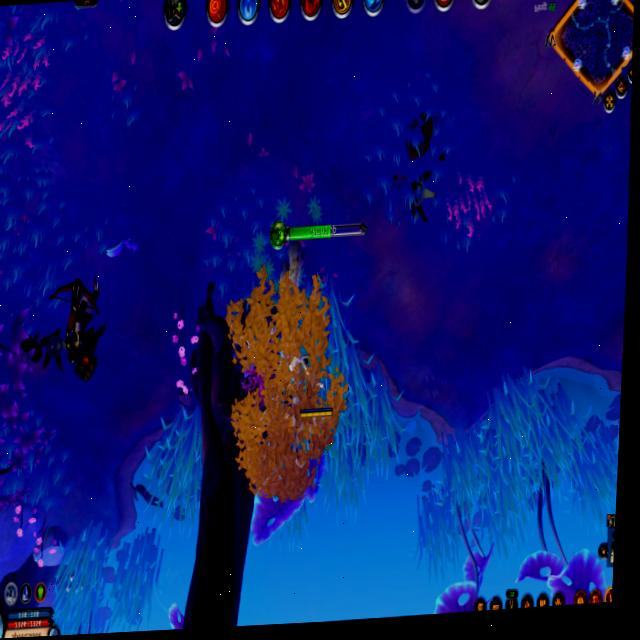ore: (39, 247, 121, 405)
red: (295, 341, 337, 425)
wisp caged: (221, 238, 350, 555)
